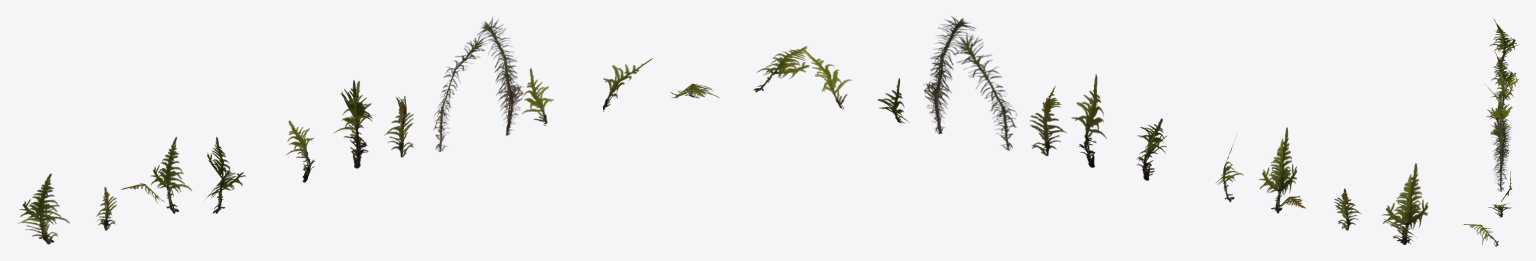
The model's file is moss_01.gltf.
3 renders of one model, left to right at view 1: azimuth 30°, elevation 25°; view 2: azimuth 150°, elevation 25°; view 3: azimuth 270°, elevation 25°, orthographic. The views are drawn at different scales.
Visible parts, largest first — view 1: moss_01_tall_b_LOD0, moss_01_a_LOD0, moss_01_f_LOD0, moss_01_c_LOD0, moss_01_tall_a_LOD0, moss_01_d_LOD0, moss_01_g_LOD0, moss_01_h_LOD0, moss_01_e_LOD0, moss_01_i_LOD0, moss_01_b_LOD0; view 2: moss_01_tall_b_LOD0, moss_01_tall_a_LOD0, moss_01_a_LOD0, moss_01_c_LOD0, moss_01_f_LOD0, moss_01_g_LOD0, moss_01_j_LOD0, moss_01_e_LOD0, moss_01_i_LOD0, moss_01_b_LOD0, moss_01_h_LOD0; view 3: moss_01_tall_b_LOD0, moss_01_a_LOD0, moss_01_c_LOD0, moss_01_d_LOD0, moss_01_f_LOD0, moss_01_tall_a_LOD0, moss_01_j_LOD0, moss_01_i_LOD0, moss_01_g_LOD0, moss_01_e_LOD0, moss_01_b_LOD0, moss_01_h_LOD0.
Boxes of the visible parts, x1,y1,x2,y2 form: moss_01_tall_b_LOD0: (477,17,523,135); moss_01_a_LOD0: (18,173,69,244); moss_01_f_LOD0: (334,80,372,168); moss_01_c_LOD0: (121,137,191,213); moss_01_tall_a_LOD0: (433,36,485,151); moss_01_d_LOD0: (206,137,245,213); moss_01_g_LOD0: (384,96,413,157); moss_01_h_LOD0: (522,68,553,125); moss_01_e_LOD0: (286,120,315,182); moss_01_i_LOD0: (603,58,652,111); moss_01_b_LOD0: (96,187,116,230); moss_01_tall_b_LOD0: (923,16,975,134); moss_01_tall_a_LOD0: (954,33,1016,150); moss_01_a_LOD0: (1382,163,1427,244); moss_01_c_LOD0: (1259,127,1305,213); moss_01_f_LOD0: (1071,74,1106,167); moss_01_g_LOD0: (1029,86,1066,155); moss_01_j_LOD0: (754,46,809,92); moss_01_e_LOD0: (1136,118,1166,180); moss_01_i_LOD0: (801,48,851,109); moss_01_b_LOD0: (1334,188,1361,230); moss_01_h_LOD0: (877,78,909,123); moss_01_tall_b_LOD0: (1491,118,1510,191); moss_01_a_LOD0: (1490,18,1518,60); moss_01_c_LOD0: (1491,51,1518,96); moss_01_d_LOD0: (1485,70,1513,109); moss_01_f_LOD0: (1489,97,1512,139); moss_01_tall_a_LOD0: (1494,125,1511,168); moss_01_j_LOD0: (1463,224,1498,246); moss_01_i_LOD0: (1488,203,1511,217); moss_01_g_LOD0: (1490,122,1506,159); moss_01_e_LOD0: (1486,93,1508,129); moss_01_b_LOD0: (1492,55,1508,75); moss_01_h_LOD0: (1501,171,1511,201).
Bounding box in the file's own units: 0.2153 × 0.0404 × 0.0294.
1 material, 1 textured.
